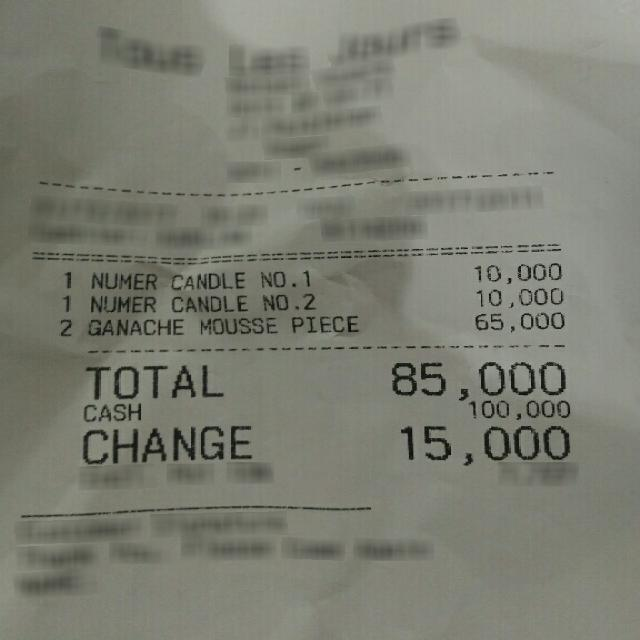kertas: (4, 1, 638, 640)
